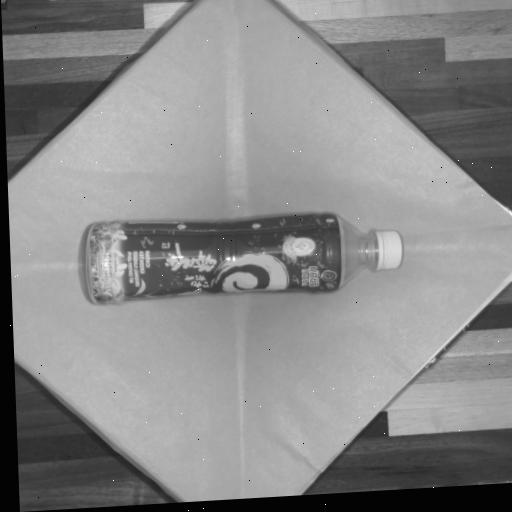bottle: (74, 203, 405, 307)
